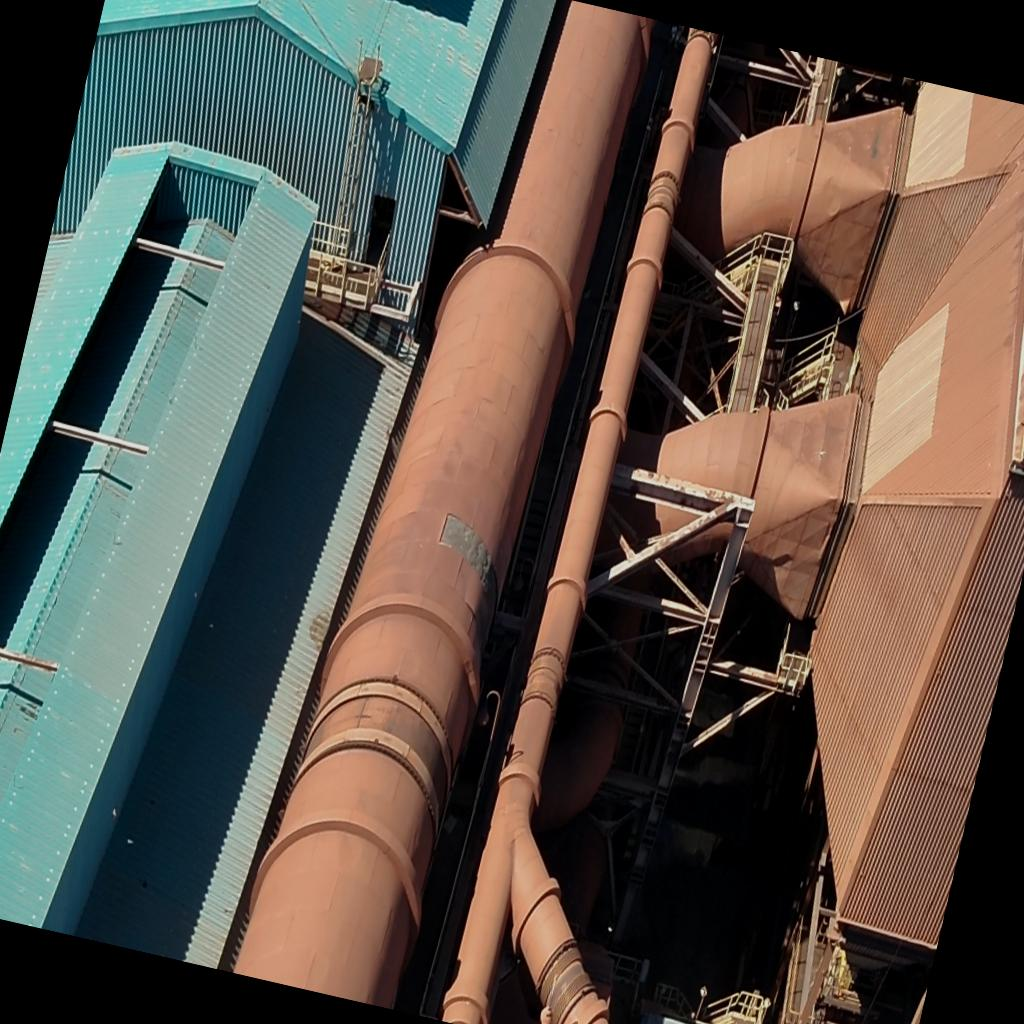Failures: (418, 502, 520, 632)
